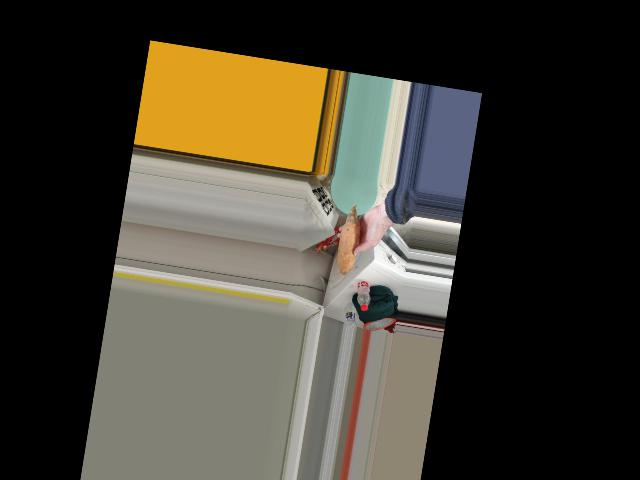sweet_potato: (338, 213, 362, 267)
